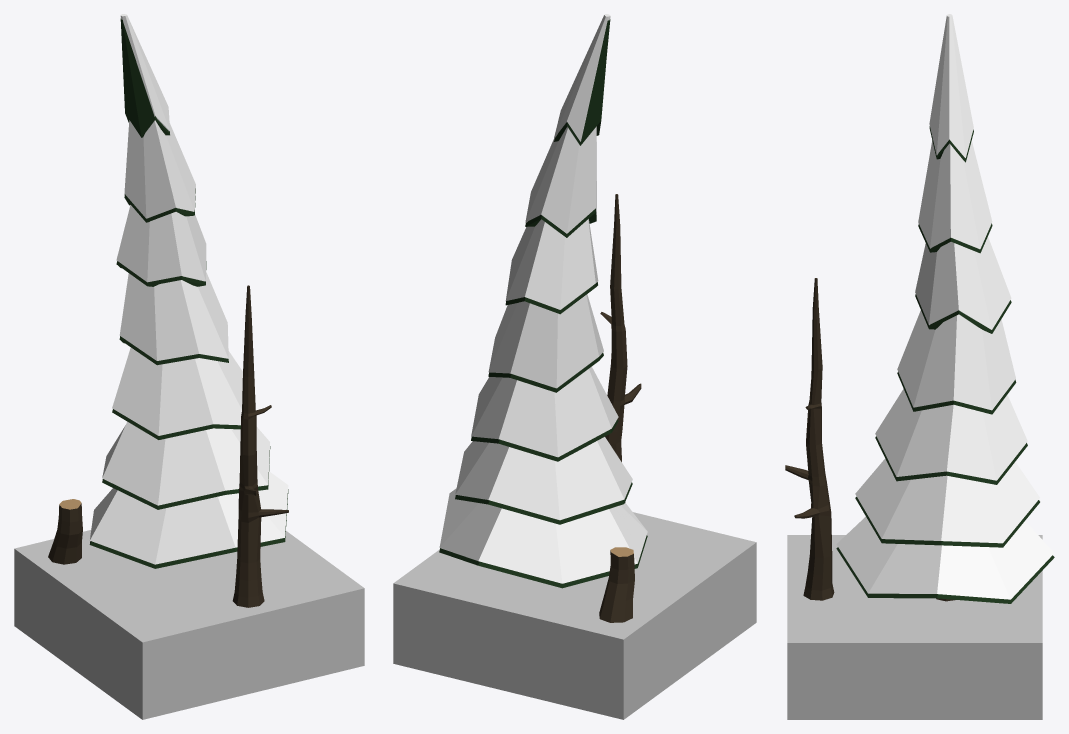
File: Tile_Tree_10.obj
3 views of the same model, side by side, from view 1: azimuth 30°, elevation 25°; view 2: azimuth 150°, elevation 25°; view 3: azimuth 270°, elevation 25° (orthographic). The views are drawn at different scales.
Visible parts, largest first — view 1: Cylinder.000_Cylinder.010, Cube, Cylinder_Cylinder.006, Cylinder.004_Cylinder.009, Cylinder.001_Cylinder.007; view 2: Cylinder.000_Cylinder.010, Cube, Cylinder.004_Cylinder.009, Cylinder_Cylinder.006, Cylinder.001_Cylinder.007; view 3: Cylinder.000_Cylinder.010, Cube, Cylinder_Cylinder.006, Cylinder.004_Cylinder.009.
Part boxes in pixels (<box>): Cylinder.000_Cylinder.010: <box>90,14,288,564</box>; Cube: <box>14,530,364,719</box>; Cylinder_Cylinder.006: <box>232,285,288,607</box>; Cylinder.004_Cylinder.009: <box>89,18,288,568</box>; Cylinder.001_Cylinder.007: <box>48,499,82,564</box>; Cylinder.000_Cylinder.010: <box>439,14,647,583</box>; Cube: <box>393,512,756,719</box>; Cylinder.004_Cylinder.009: <box>439,19,647,588</box>; Cylinder_Cylinder.006: <box>600,194,641,502</box>; Cylinder.001_Cylinder.007: <box>599,547,634,622</box>; Cylinder.000_Cylinder.010: <box>836,14,1054,599</box>; Cube: <box>787,535,1042,719</box>; Cylinder_Cylinder.006: <box>785,278,834,600</box>; Cylinder.004_Cylinder.009: <box>836,126,1054,603</box>.
Size of the model in its own units: 3 by 8.13 by 3.17.
